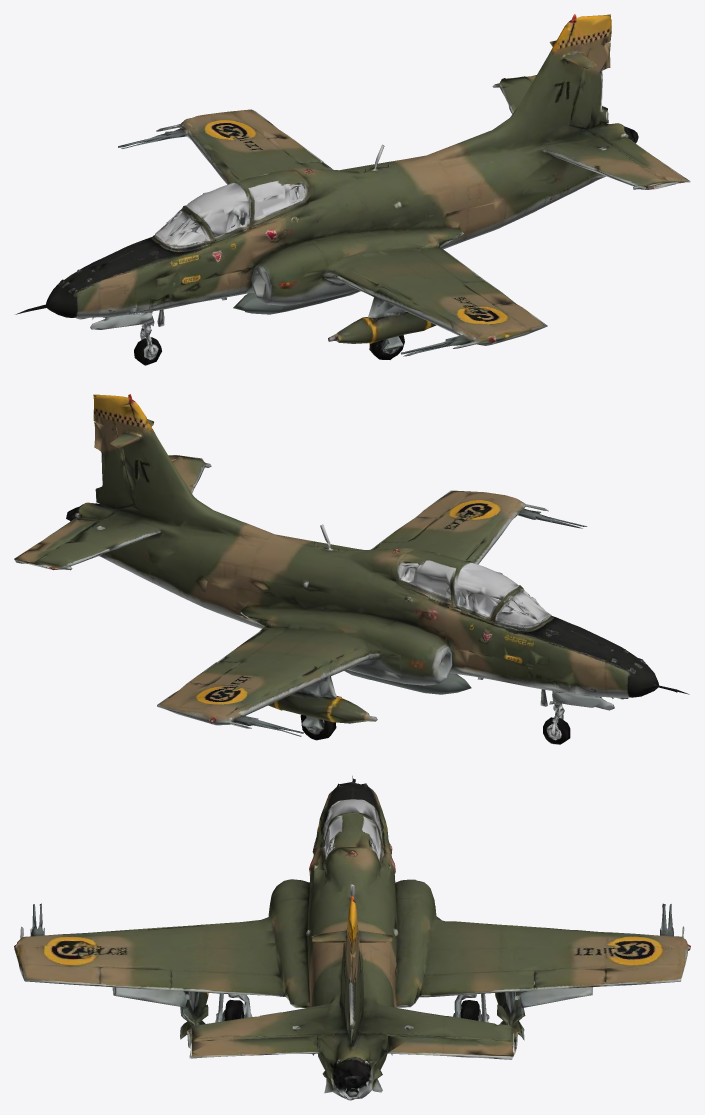
The model's file is jet.glb.
3 views of the same model, one above another, from view 1: azimuth 30°, elevation 25°; view 2: azimuth 150°, elevation 25°; view 3: azimuth 270°, elevation 25° (orthographic). The views are drawn at different scales.
Visible parts, largest first — view 1: tripo_node_3badec3b-8a42-459a-ab19-2447acc07136; view 2: tripo_node_3badec3b-8a42-459a-ab19-2447acc07136; view 3: tripo_node_3badec3b-8a42-459a-ab19-2447acc07136.
Part boxes in pixels (x1,y1,x2,y2): tripo_node_3badec3b-8a42-459a-ab19-2447acc07136: (15, 14, 690, 365); tripo_node_3badec3b-8a42-459a-ab19-2447acc07136: (14, 394, 689, 744); tripo_node_3badec3b-8a42-459a-ab19-2447acc07136: (14, 776, 690, 1100).
Bounding box in the file's own units: 0.9772 × 0.3702 × 0.8266.
Materials: 1 (1 with a texture image).
